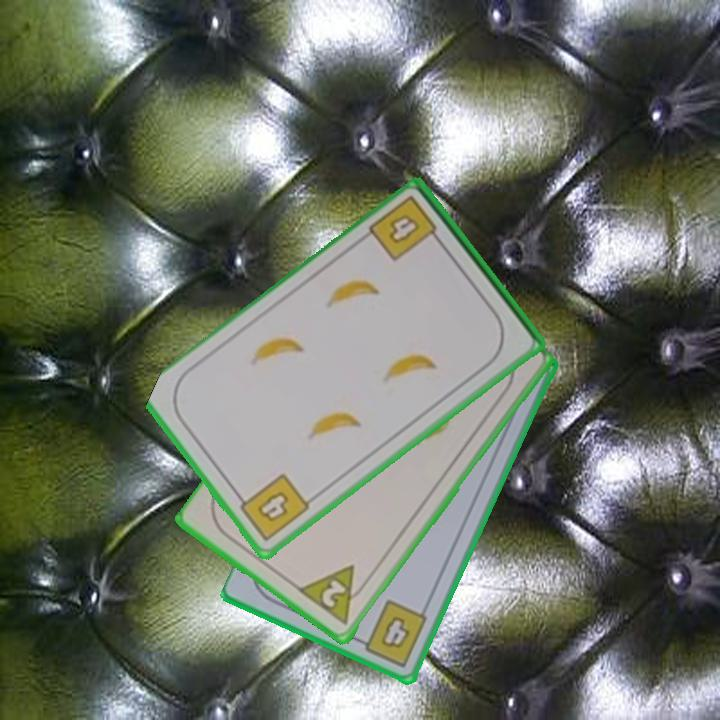2p: (295, 561, 374, 629)
4b: (232, 470, 313, 545), (366, 192, 446, 265), (353, 596, 431, 670)
